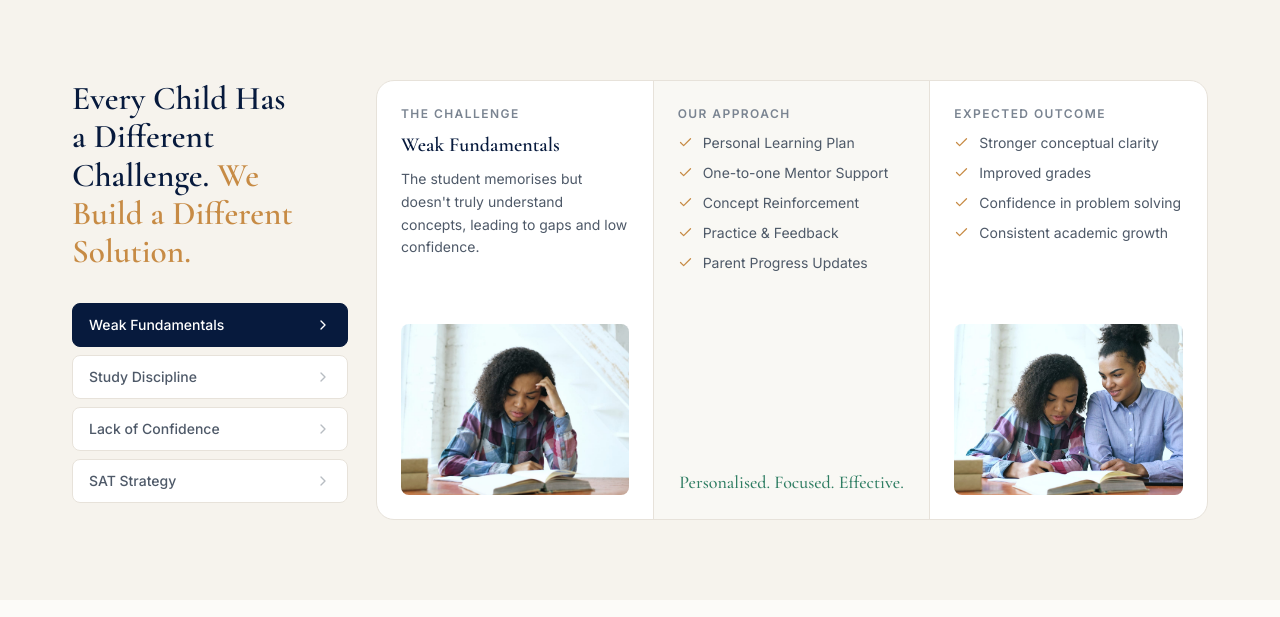
Test: Challenges tabs › switches panels on click and marks the new tab selected, showing that tab's real content
This screenshot has width=1280, height=617.
Step 1. Click the tab "Study Discipline" → click(143, 377), box top-left (72, 355), bottom-right (348, 399)
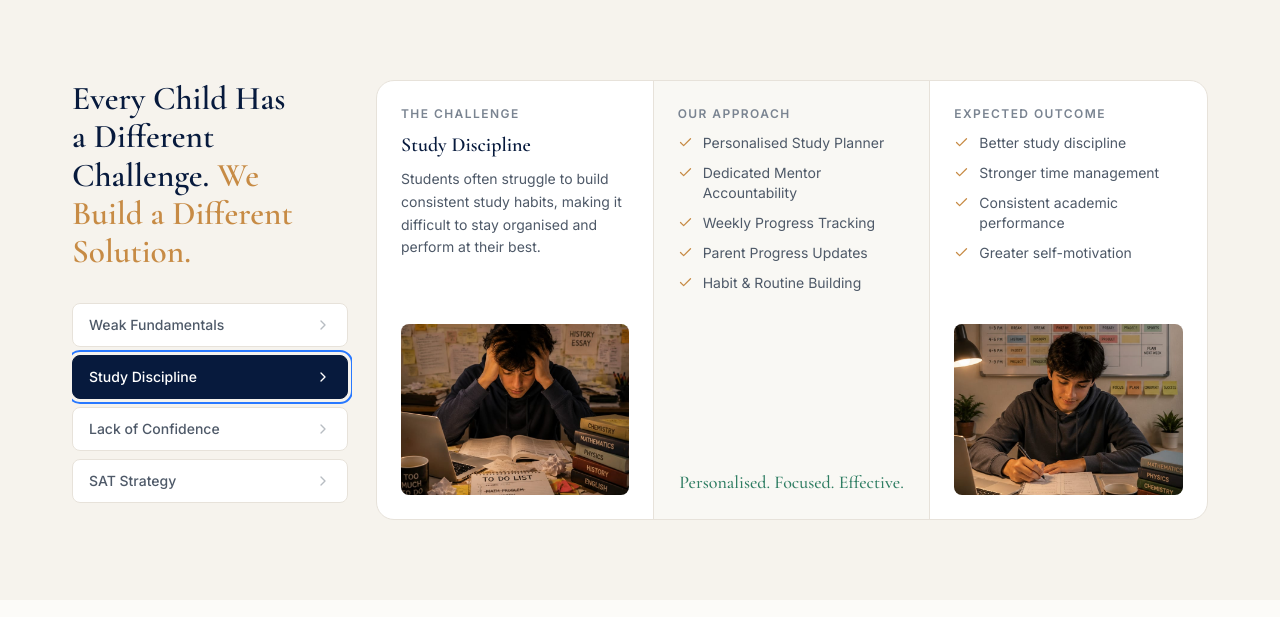
Expected: the text "struggle to build consistent study habits" is shown, top-left (401, 170), bottom-right (622, 255)
Expected: the list item "Personalised Study Planner" is shown, top-left (678, 133), bottom-right (905, 153)
